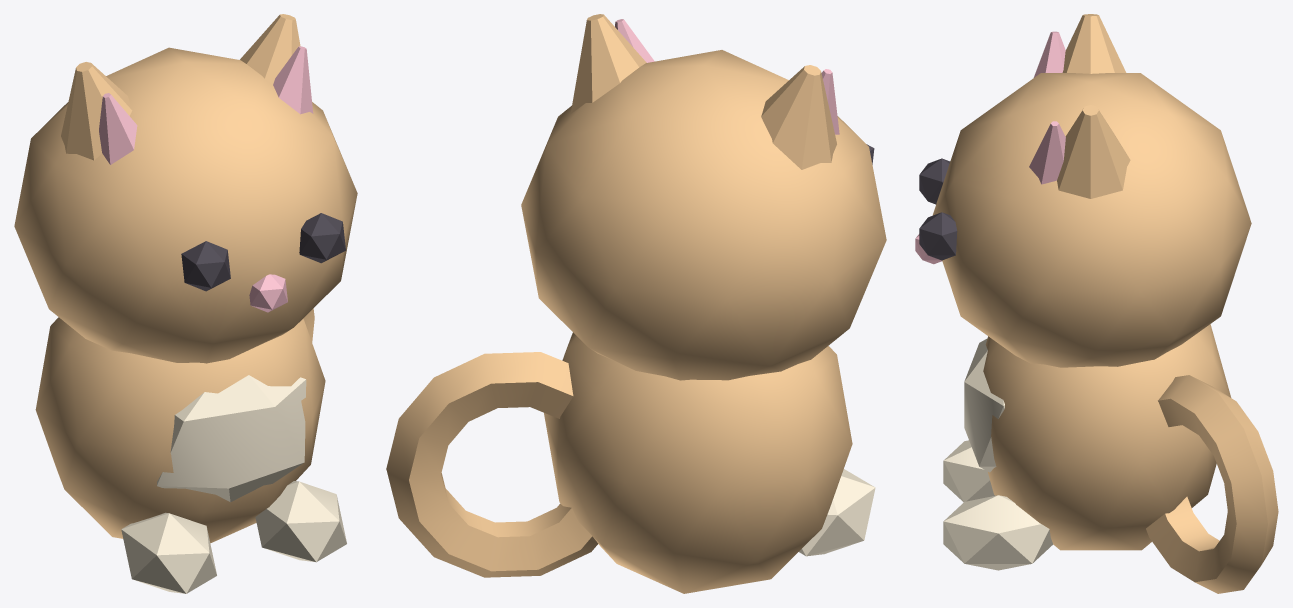
File: pet_cat.glb
3 views of the same model, side by side, from view 1: azimuth 30°, elevation 25°; view 2: azimuth 150°, elevation 25°; view 3: azimuth 270°, elevation 25° (orthographic). The views are drawn at different scales.
Visible parts, largest first — view 1: pet_cat; view 2: pet_cat; view 3: pet_cat.
Part boxes in pixels (box(x1,y1,x2,y2)): pet_cat: box(14, 14, 357, 593); pet_cat: box(386, 14, 886, 593); pet_cat: box(915, 14, 1278, 593).
Bounding box in the file's own units: 0.3785 × 0.5213 × 0.3538.
